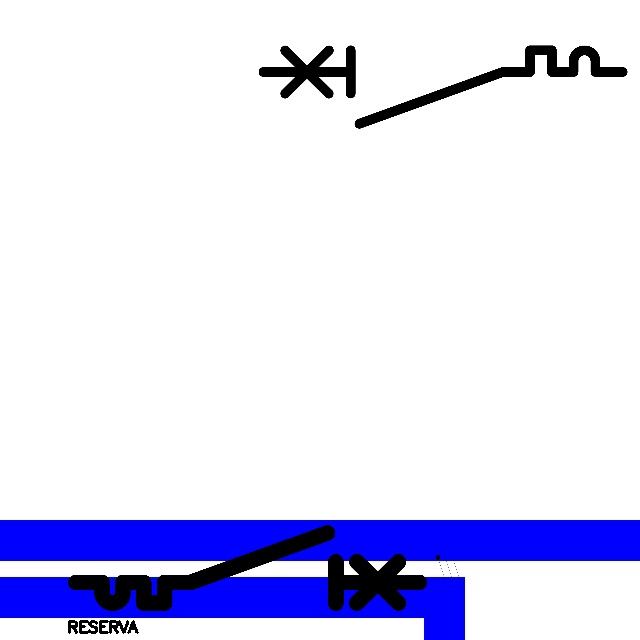interruptor_termomagnetico: (254, 41, 632, 133), (67, 524, 428, 612)
